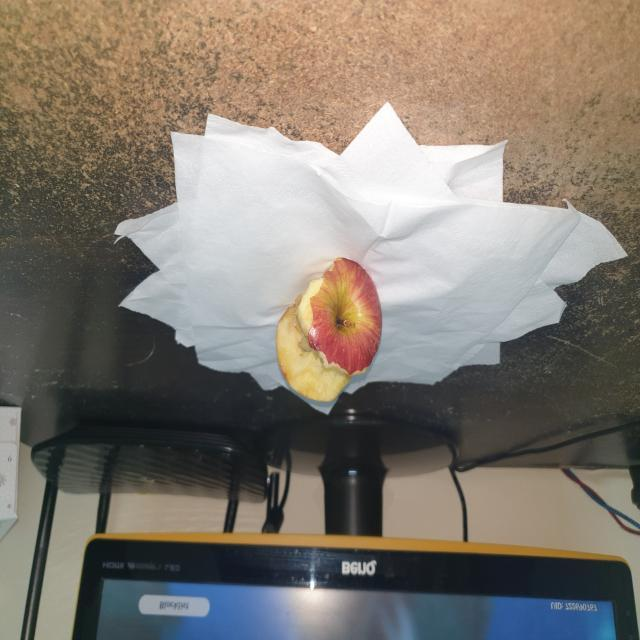apple: (274, 257, 387, 405)
